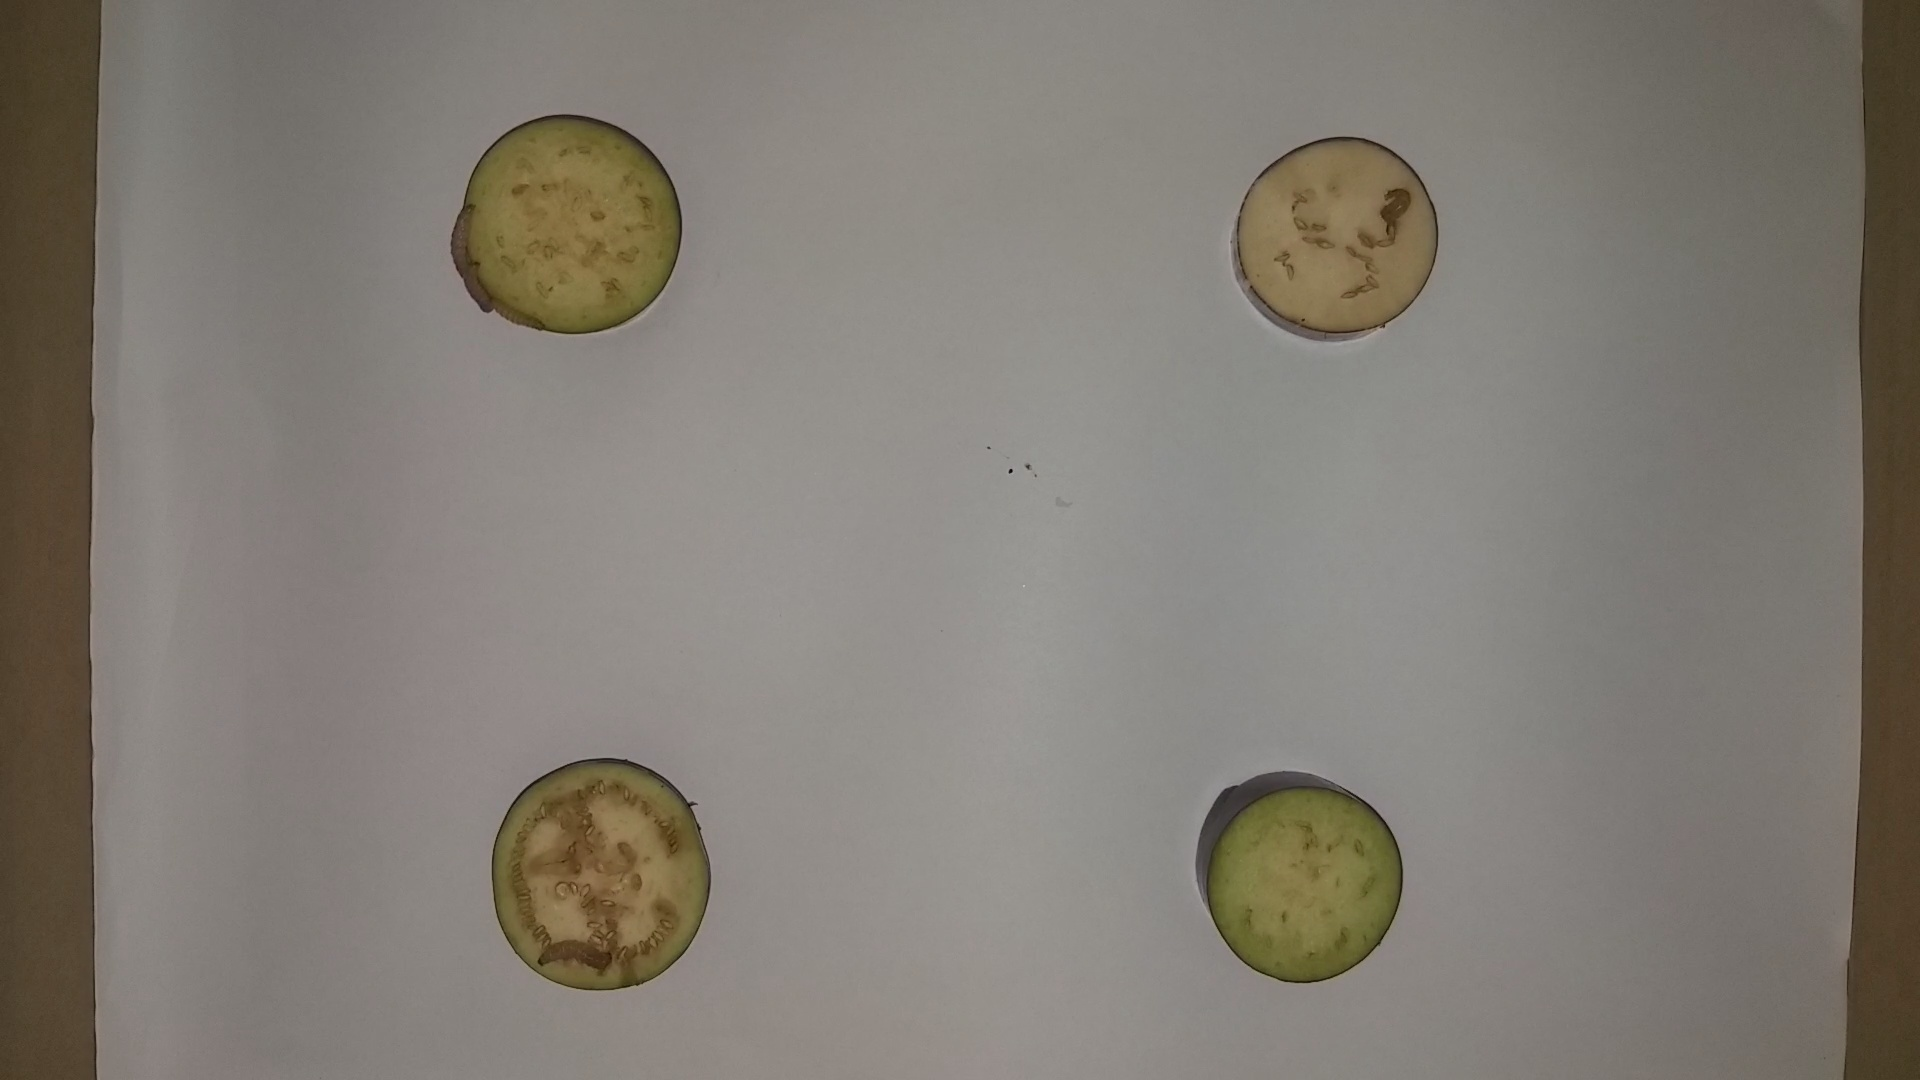efsb: (527, 934, 618, 975), (476, 291, 547, 336), (458, 251, 497, 327), (447, 200, 479, 284), (1374, 185, 1418, 229)
eggplant: (483, 746, 721, 1000), (454, 107, 692, 345), (1178, 765, 1412, 990), (1226, 131, 1447, 349)
